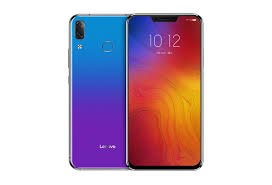lenovo: (123, 13, 205, 171), (66, 12, 126, 170)
